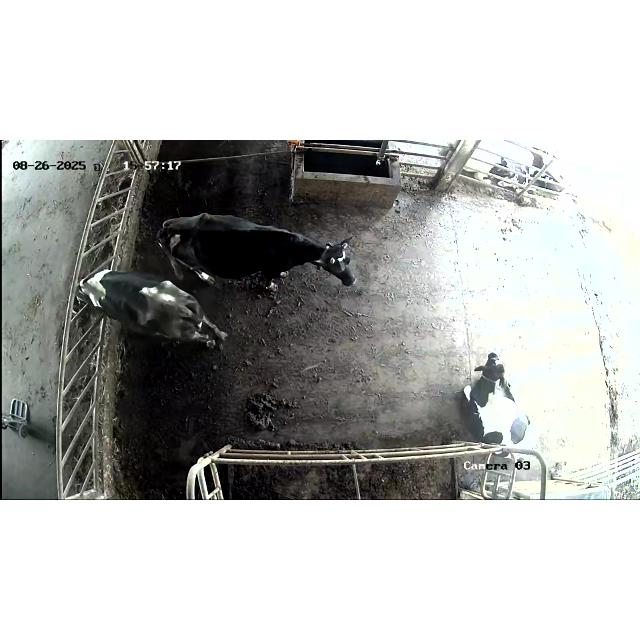stand: (153, 208, 364, 310)
